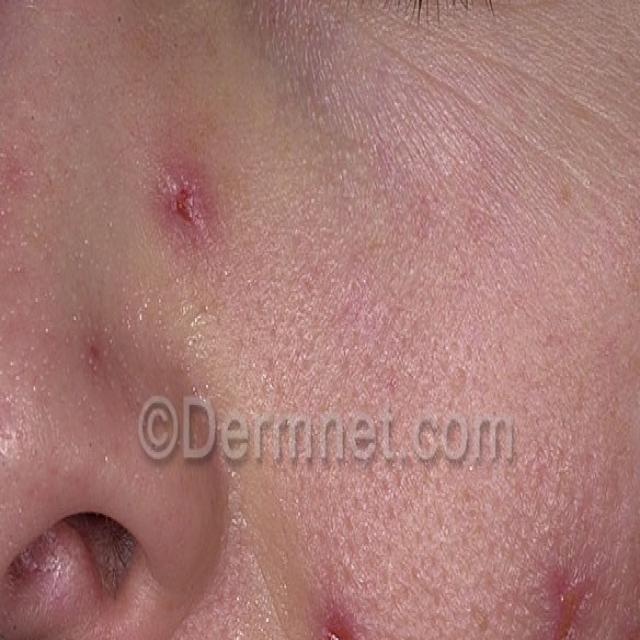Acne: (499, 506, 640, 640), (69, 306, 148, 438), (137, 154, 224, 263), (298, 586, 373, 640), (0, 96, 19, 242)
